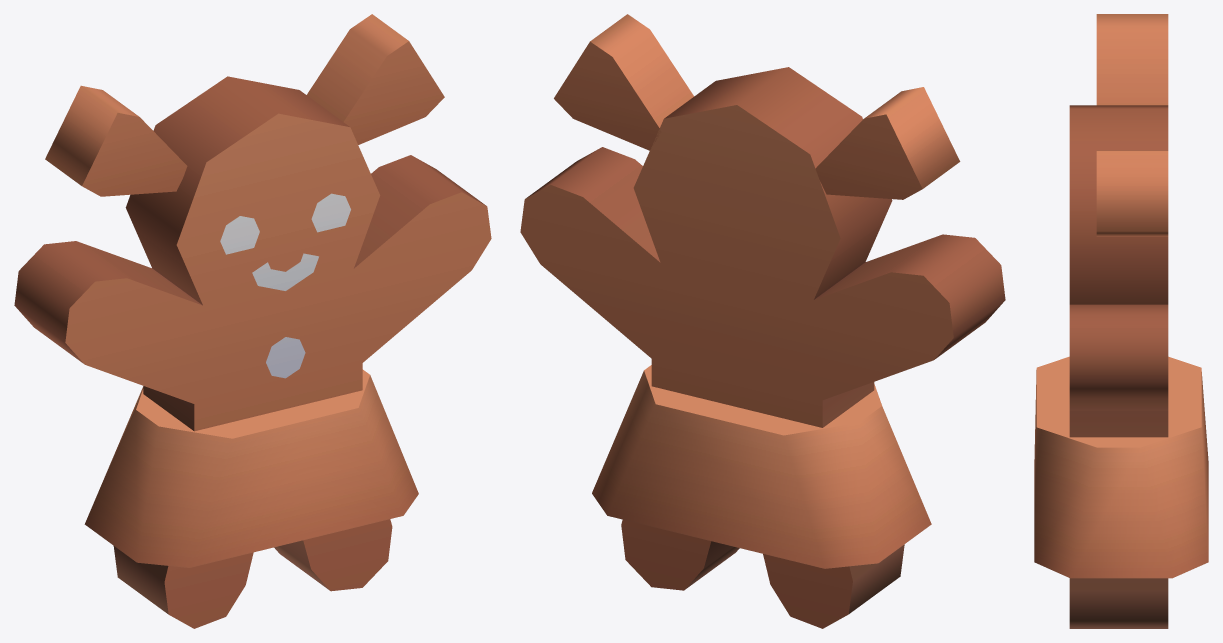
Rendered from k-holiday-gingerbread-woman.glb.
The picture shows the model from 3 angles, left to right: view 1: azimuth 30°, elevation 25°; view 2: azimuth 150°, elevation 25°; view 3: azimuth 270°, elevation 25°; orthographic projection. The views are drawn at different scales.
Visible parts, largest first — view 1: gingerbread-woman, Group; view 2: gingerbread-woman, Group; view 3: gingerbread-woman, Group.
Part boxes in pixels (x1,y1,x2,y2): gingerbread-woman: [14, 14, 491, 628]; Group: [84, 369, 418, 567]; gingerbread-woman: [520, 14, 1005, 628]; Group: [592, 365, 931, 568]; gingerbread-woman: [1069, 14, 1168, 628]; Group: [1034, 356, 1208, 578].
Bounding box in the file's own units: 0.3393 × 0.397 × 0.1237.
Materials: 1 (1 with a texture image).
